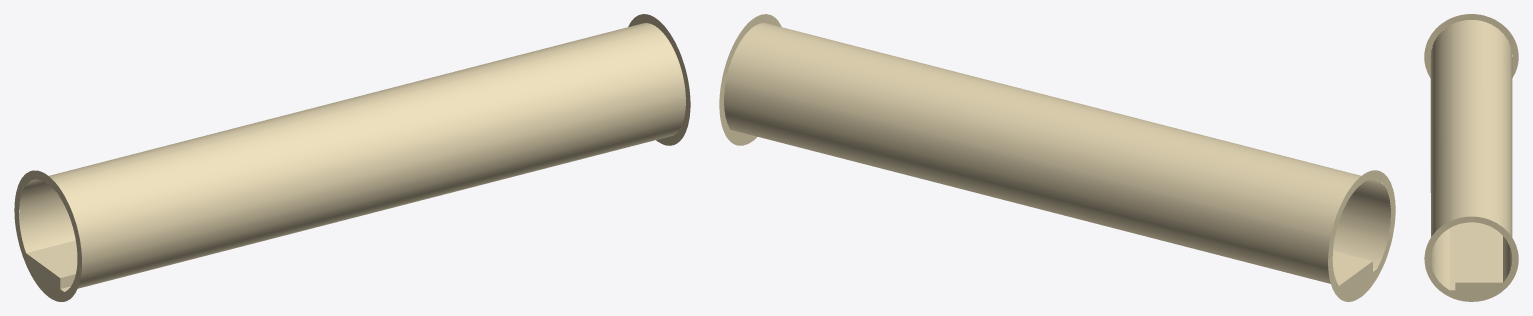
Rendered from 1-decimated-smoothed-mirror.FBX.
3 views of the same model, side by side, from view 1: azimuth 30°, elevation 25°; view 2: azimuth 150°, elevation 25°; view 3: azimuth 270°, elevation 25° (orthographic). The views are drawn at different scales.
Parts seen in each view (by area): view 1: 1-decimated-smoothed-mirror; view 2: 1-decimated-smoothed-mirror; view 3: 1-decimated-smoothed-mirror.
Boxes of the visible parts, left/top/right/bottom form: 1-decimated-smoothed-mirror: left=14, top=14, right=690, bottom=301; 1-decimated-smoothed-mirror: left=719, top=14, right=1395, bottom=301; 1-decimated-smoothed-mirror: left=1424, top=14, right=1518, bottom=301.
Size of the model in its own units: 2670 by 513 by 544.
